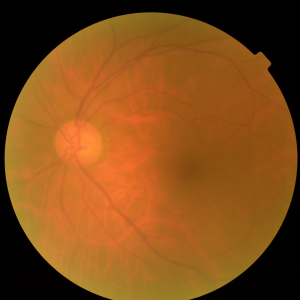cataract: (35, 92, 265, 218)
